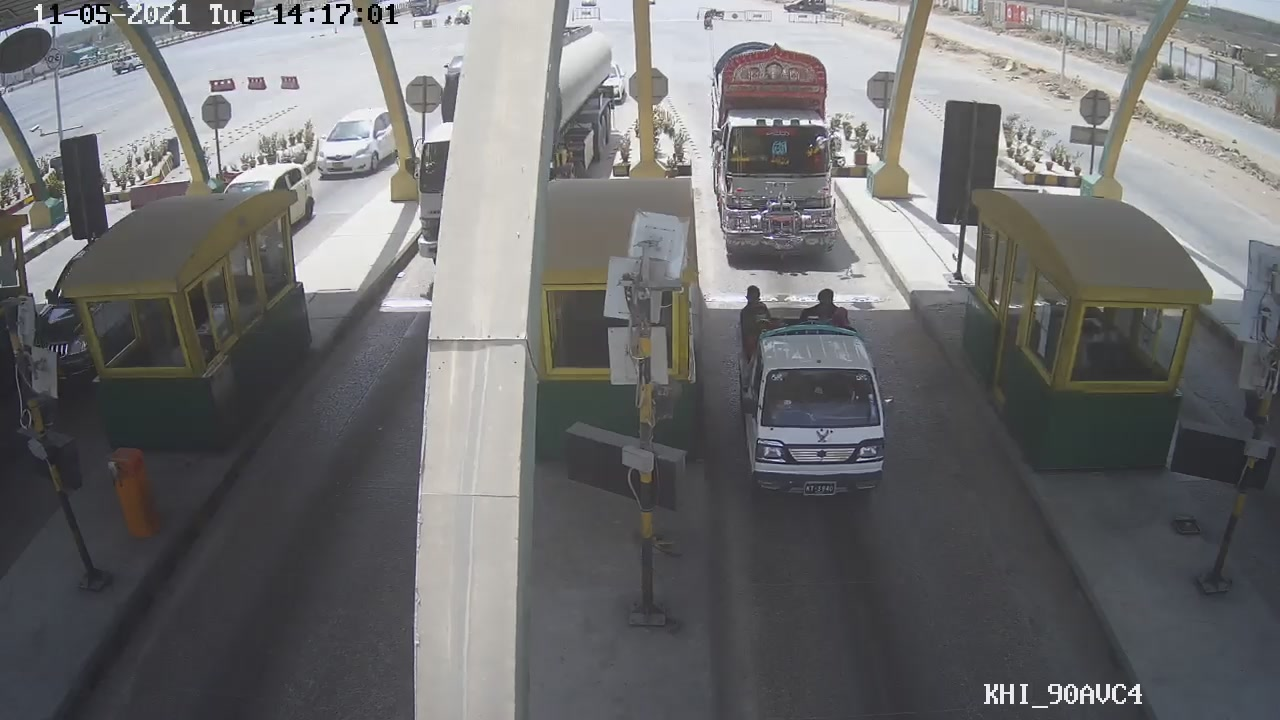F5: (704, 27, 846, 259)
